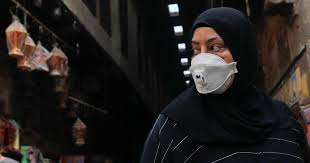with-mask: (184, 15, 250, 100)
